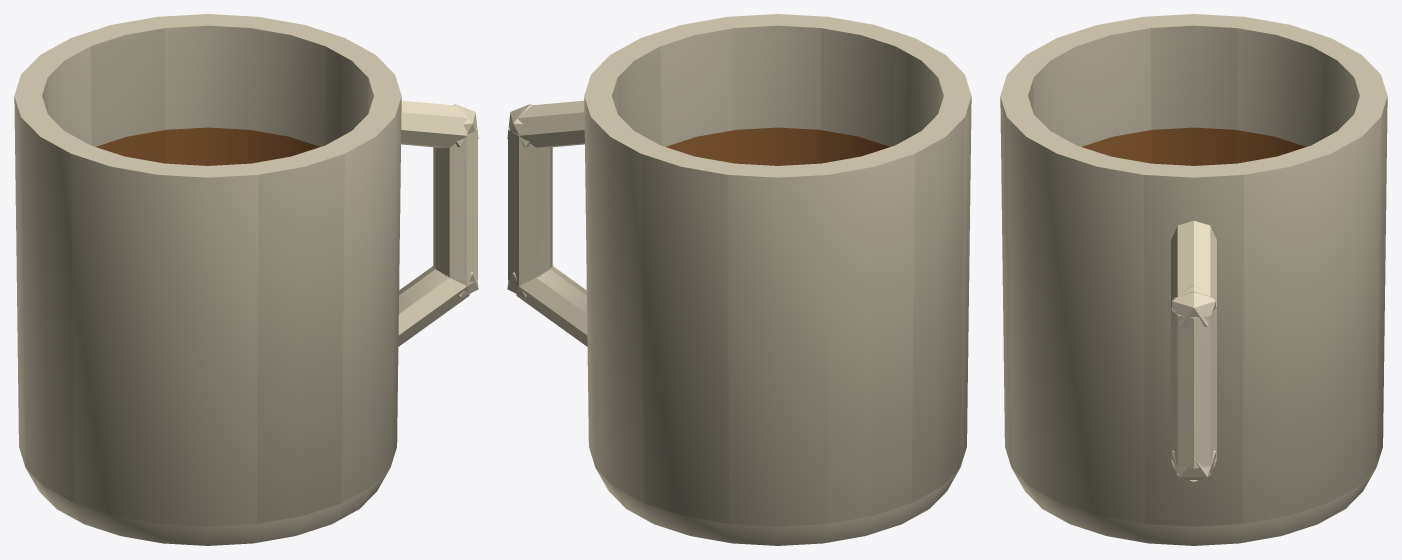
Rendered from mug_mould.glb.
The picture shows the model from 3 angles, left to right: view 1: azimuth 30°, elevation 25°; view 2: azimuth 150°, elevation 25°; view 3: azimuth 270°, elevation 25°; orthographic projection.
Visible parts, largest first — view 1: body; view 2: body; view 3: body.
Boxes of the visible parts, <box> form: body: <box>14,14,478,545</box>; body: <box>507,14,971,545</box>; body: <box>1000,14,1387,545</box>.
Size of the model in its own units: 0.109 by 0.09 by 0.084.
